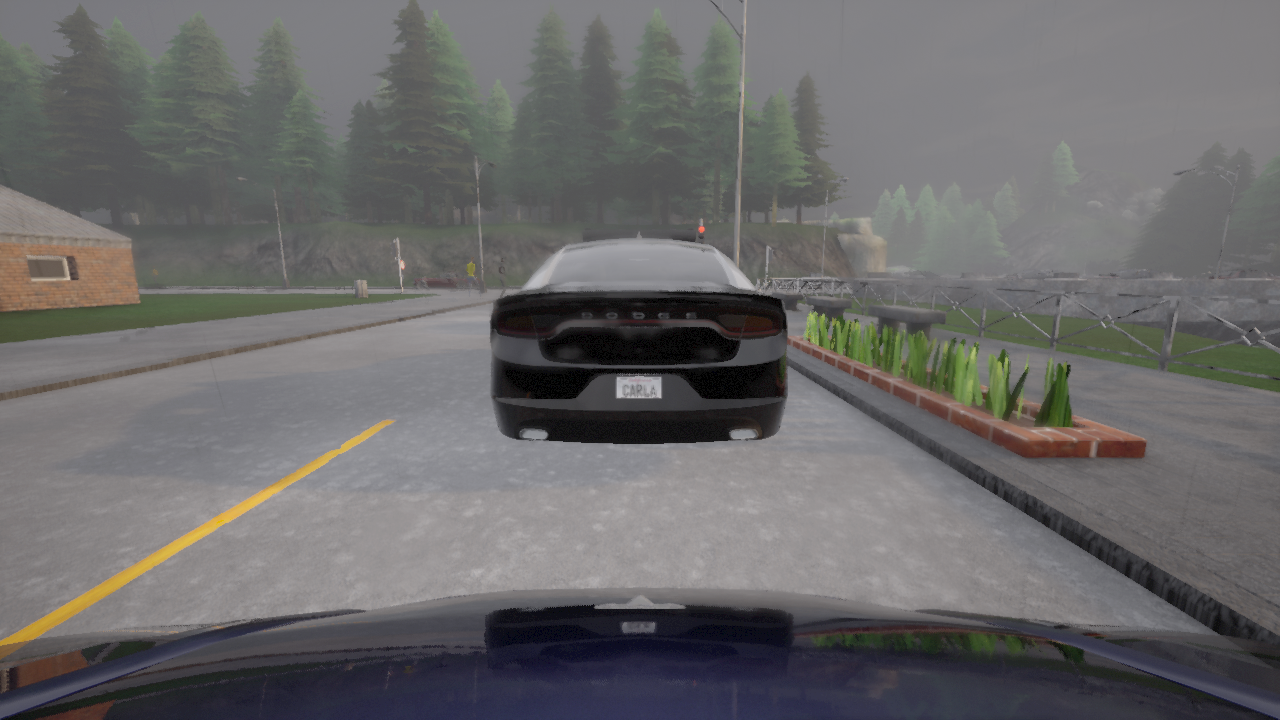cyclist: (0, 588, 1279, 719), (491, 228, 787, 443), (412, 272, 480, 289), (1097, 269, 1183, 279), (1004, 269, 1086, 279), (1208, 269, 1279, 279), (890, 269, 953, 279)
pedestrian: (465, 256, 483, 300), (498, 257, 507, 297), (150, 266, 159, 286), (529, 264, 533, 278)
